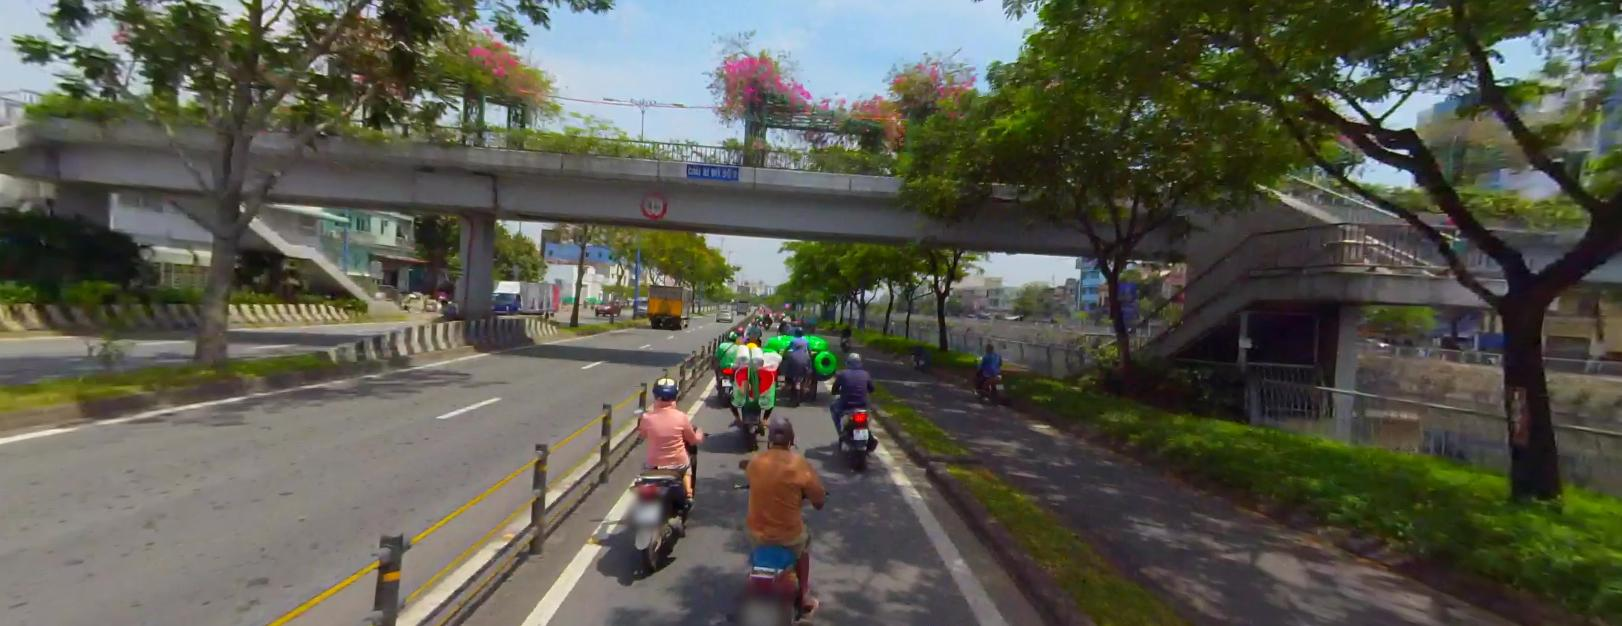Cam con lai: (638, 189, 666, 216)
